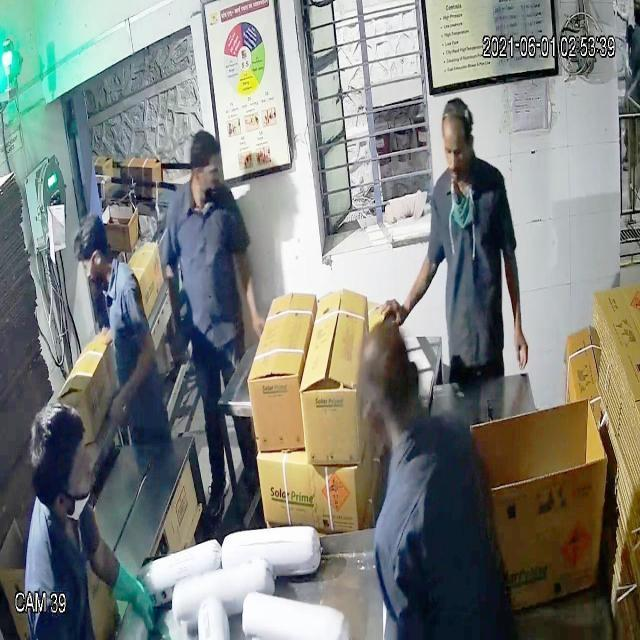hairnet: (62, 447, 99, 520), (80, 254, 112, 290), (197, 169, 223, 208)
